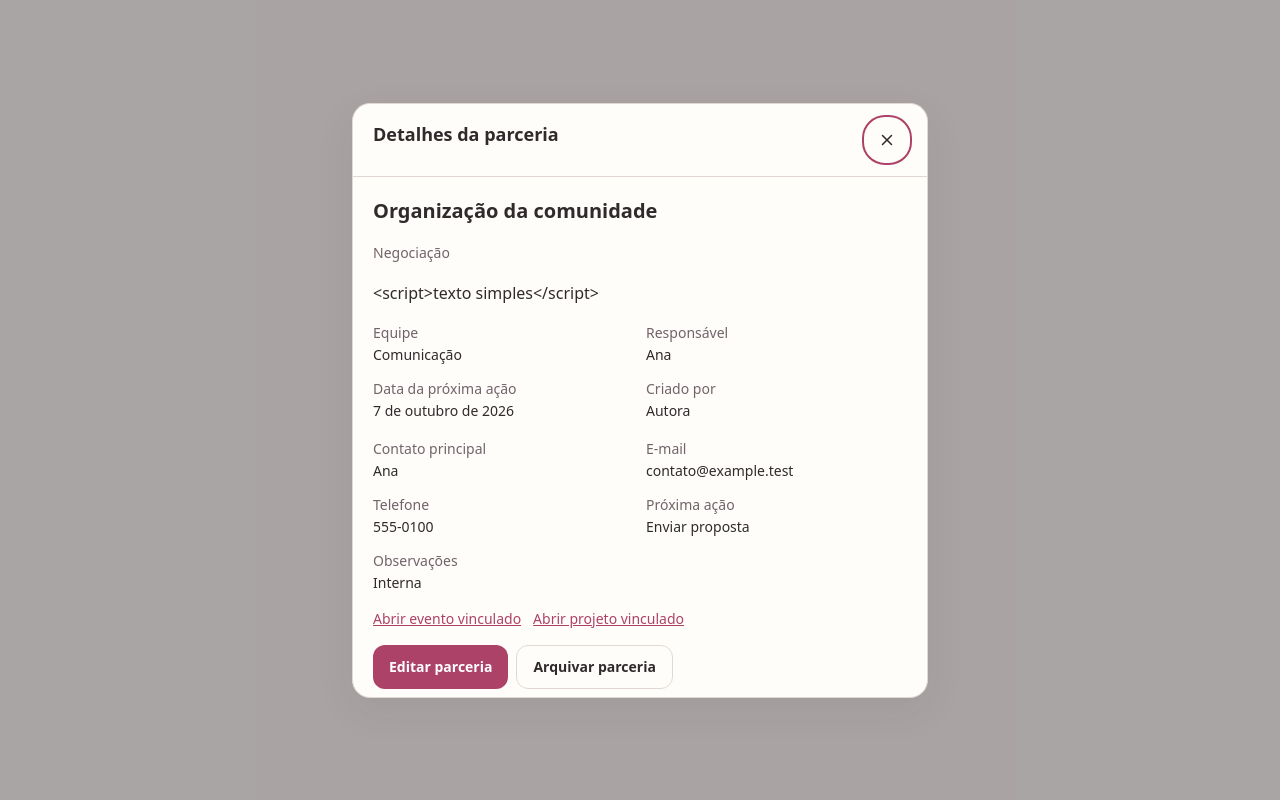
conflito mantém formulário e descricao
Click the button "Editar parceria" at coordinates (441, 666), box [373,644,508,688]
(page scrolled)
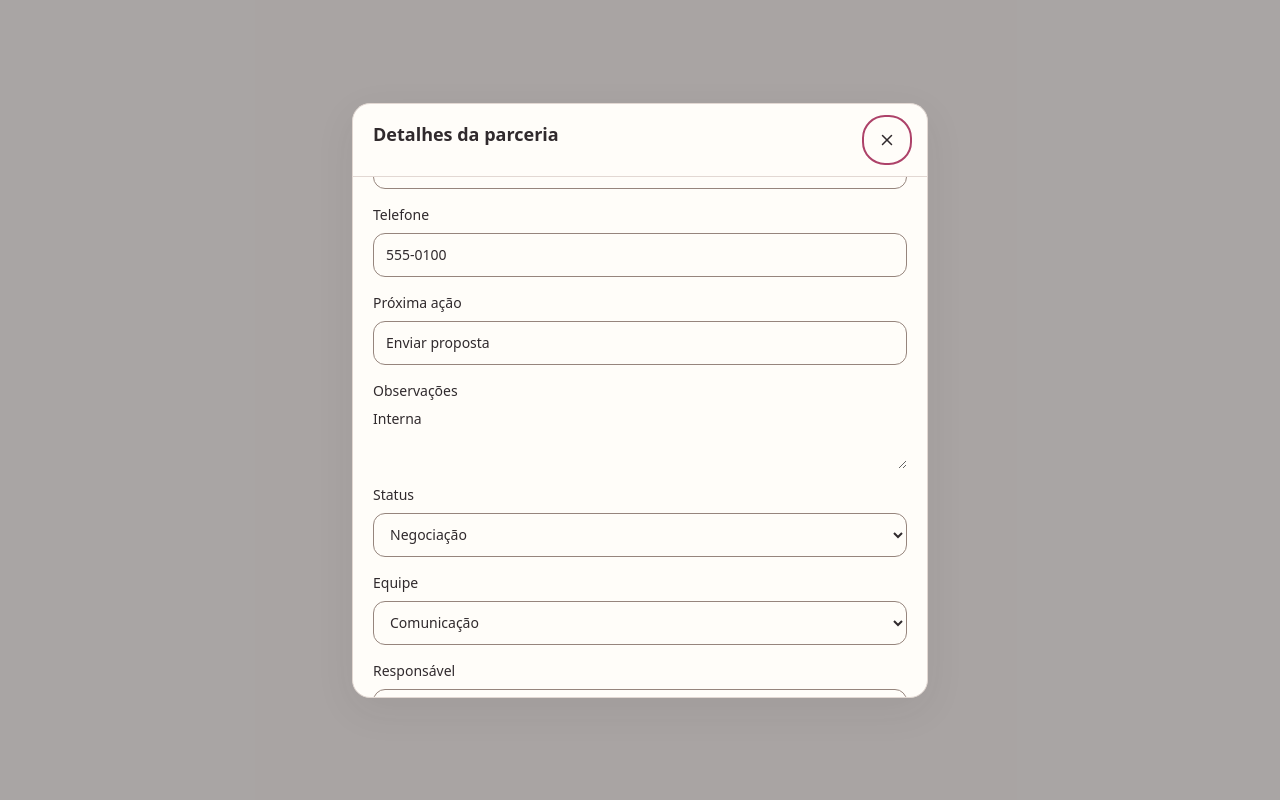
Submit the form named "Salvar parceria"
(page scrolled)
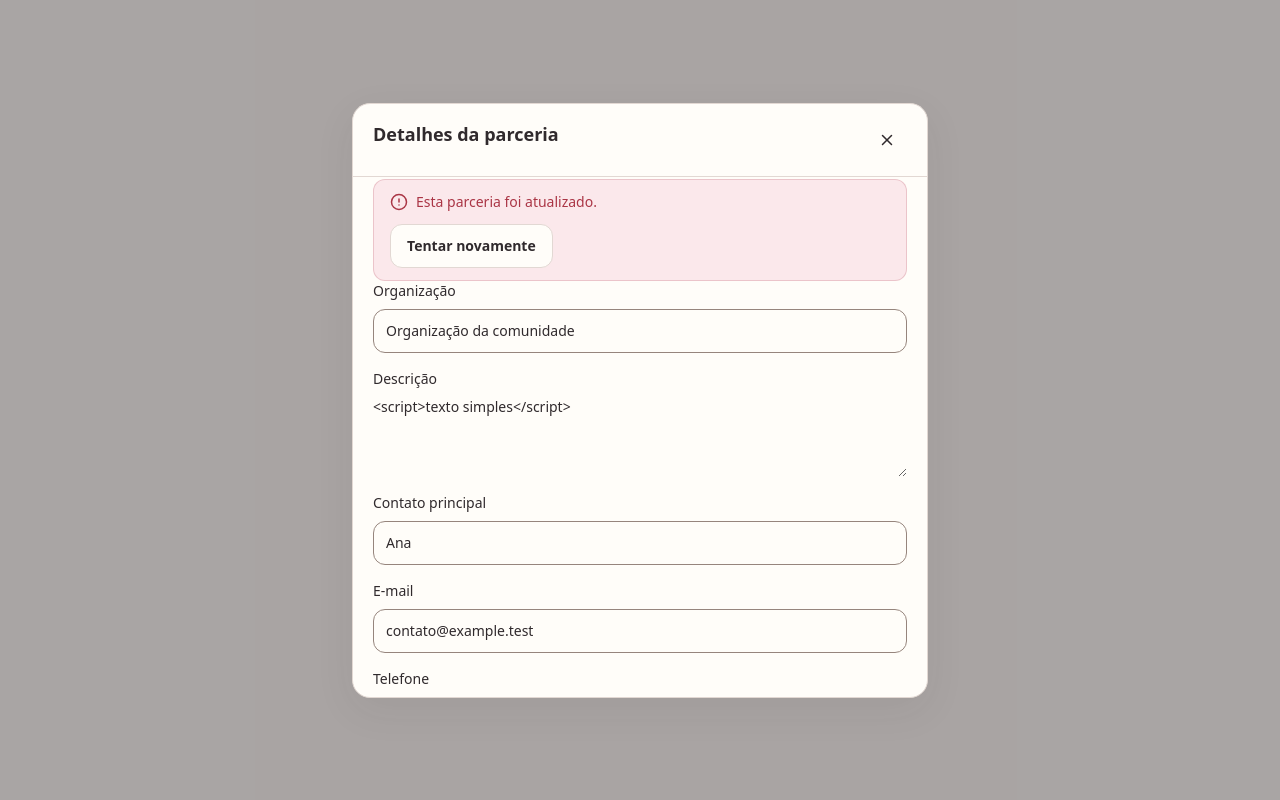
Expected: the text "Esta parceria foi atualizado." is shown, [390,192,597,210]
Expected: the text box labelled "Descrição" is shown, [373,396,907,476]
